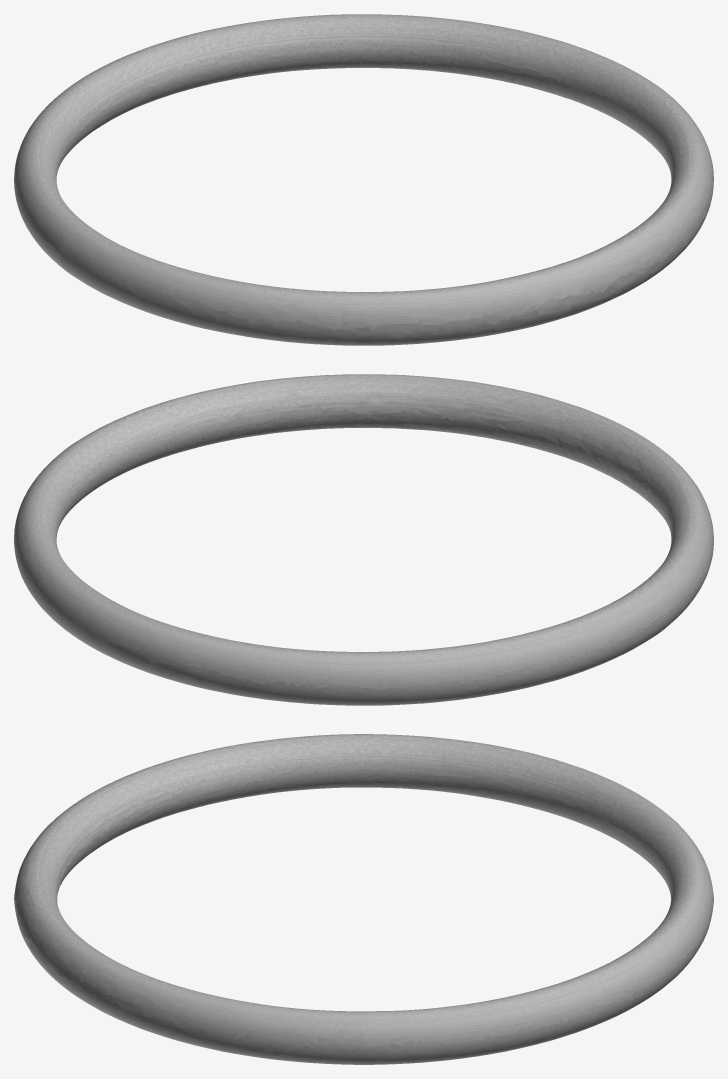
Rendered from ring_silver.glb.
3 renders of one model, top to bottom at view 1: azimuth 30°, elevation 25°; view 2: azimuth 150°, elevation 25°; view 3: azimuth 270°, elevation 25°, orthographic.
Size of the model in its own units: 1.9 by 0.1527 by 1.9.
Materials: 1 (1 with a texture image).
